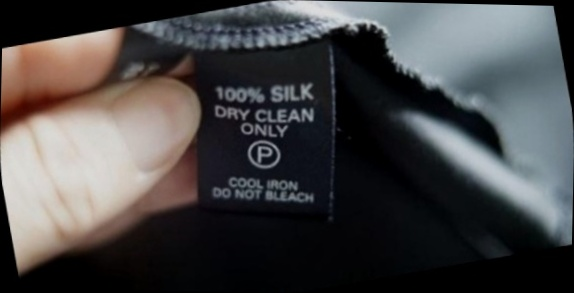dry_clean_any_solvent_except_trichloroethylene: (242, 132, 288, 175)
